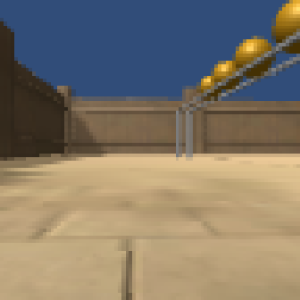goodGoalMulti: (273, 1, 300, 57), (235, 39, 271, 74), (212, 61, 243, 90), (199, 78, 218, 100)
wall: (176, 106, 195, 160)
